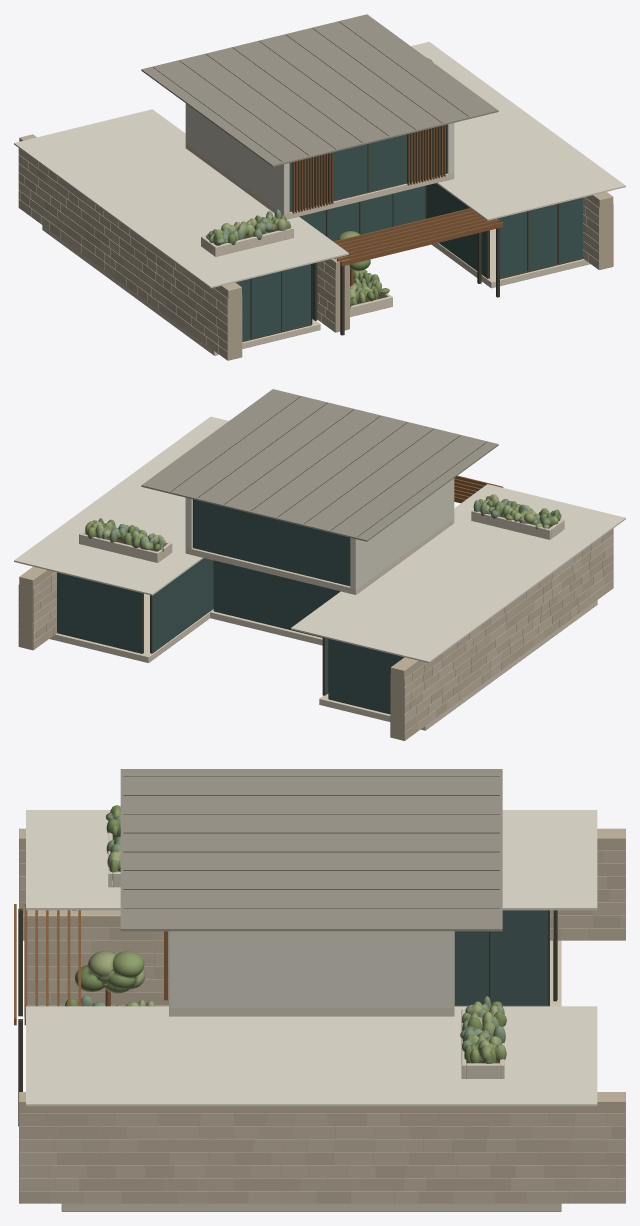
Rendered from casa-4.glb.
The picture shows the model from 3 angles, top to bottom: view 1: azimuth 30°, elevation 25°; view 2: azimuth 150°, elevation 25°; view 3: azimuth 270°, elevation 25°; orthographic projection. The views are drawn at different scales.
Parts seen in each view (by area): view 1: Casa 05 | Arquitectura sin solapes, Casa 05 | Vegetacion integrada; view 2: Casa 05 | Arquitectura sin solapes, Casa 05 | Vegetacion integrada; view 3: Casa 05 | Arquitectura sin solapes, Casa 05 | Vegetacion integrada.
Boxes of the visible parts, x1,y1,x2,y2 form: Casa 05 | Arquitectura sin solapes: (14,14,625,360); Casa 05 | Vegetacion integrada: (201,58,432,316); Casa 05 | Arquitectura sin solapes: (14,389,625,740); Casa 05 | Vegetacion integrada: (79,494,564,562); Casa 05 | Arquitectura sin solapes: (14,769,625,1211); Casa 05 | Vegetacion integrada: (65,805,506,1078).
Size of the model in its own units: 19.5 by 7.03 by 17.14.
